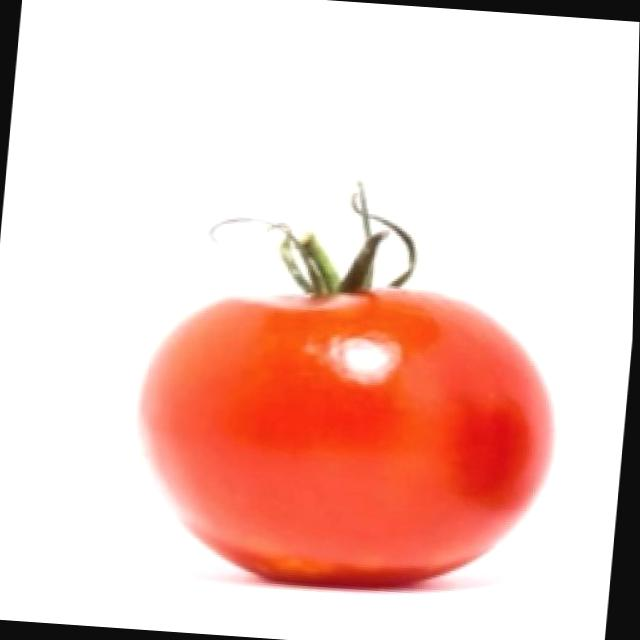tomato: (129, 272, 566, 604)
